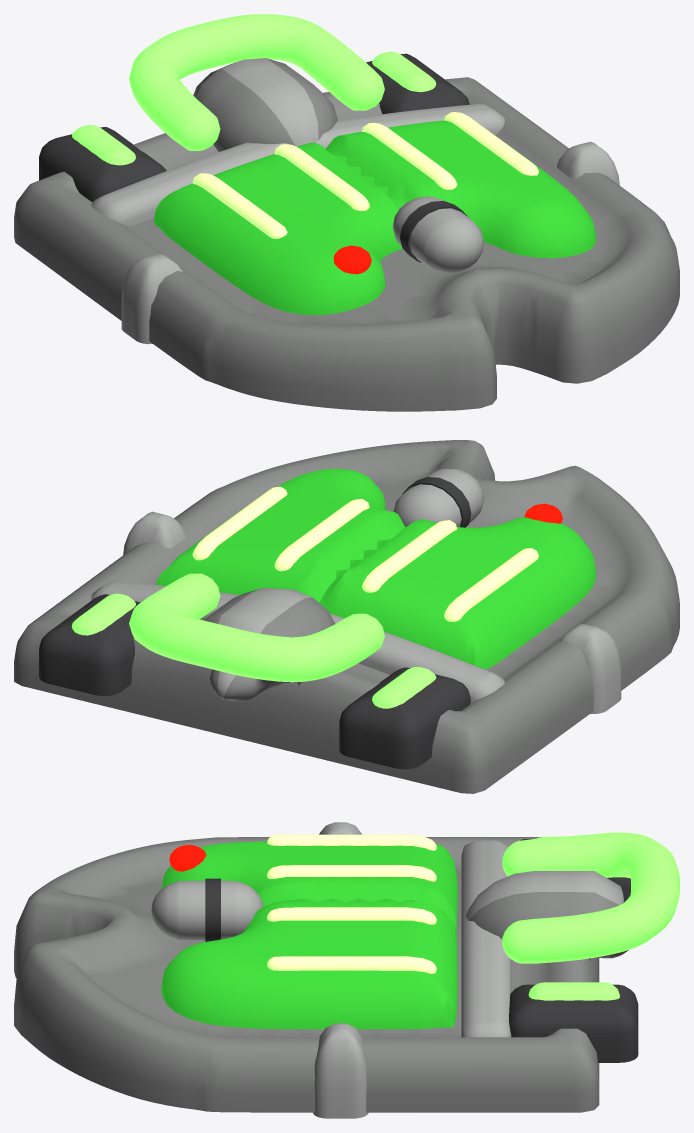
Rendered from store_shield_163.glb.
3 views of the same model, one above another, from view 1: azimuth 30°, elevation 25°; view 2: azimuth 150°, elevation 25°; view 3: azimuth 270°, elevation 25° (orthographic).
Visible parts, largest first — view 1: shield_steel, shield_green_core, shield_green_cell, shield_steel_light, spine, shield_steel_dark, shield_green_rib, shield_red_dot; view 2: shield_steel, shield_green_core, shield_green_cell, shield_steel_dark, shield_steel_light, shield_green_rib, spine, shield_red_dot; view 3: shield_steel, shield_green_core, shield_steel_light, shield_green_cell, shield_green_rib, shield_steel_dark, spine, shield_red_dot.
Boxes of the visible parts, bbox=[...] form: shield_steel: bbox=[14, 77, 679, 411]; shield_green_core: bbox=[154, 120, 595, 315]; shield_green_cell: bbox=[72, 14, 436, 165]; shield_steel_light: bbox=[91, 104, 619, 344]; spine: bbox=[193, 58, 337, 151]; shield_steel_dark: bbox=[39, 53, 469, 262]; shield_green_rib: bbox=[192, 112, 538, 238]; shield_red_dot: bbox=[333, 245, 371, 274]; shield_steel: bbox=[14, 440, 679, 793]; shield_green_core: bbox=[155, 469, 595, 669]; shield_green_cell: bbox=[71, 573, 436, 708]; shield_steel_dark: bbox=[39, 477, 471, 769]; shield_steel_light: bbox=[91, 468, 621, 713]; shield_green_rib: bbox=[192, 486, 538, 621]; spine: bbox=[203, 588, 335, 702]; shield_red_dot: bbox=[524, 503, 562, 523]; shield_steel: bbox=[14, 837, 599, 1112]; shield_green_core: bbox=[161, 841, 457, 1029]; shield_steel_light: bbox=[151, 822, 511, 1118]; shield_green_cell: bbox=[502, 832, 679, 1000]; shield_green_rib: bbox=[267, 834, 436, 973]; shield_steel_dark: bbox=[205, 839, 638, 1062]; spine: bbox=[465, 871, 628, 960]; shield_red_dot: bbox=[169, 845, 206, 871].
Bounding box in the file's own units: 17.7 × 4.8 × 21.26.
